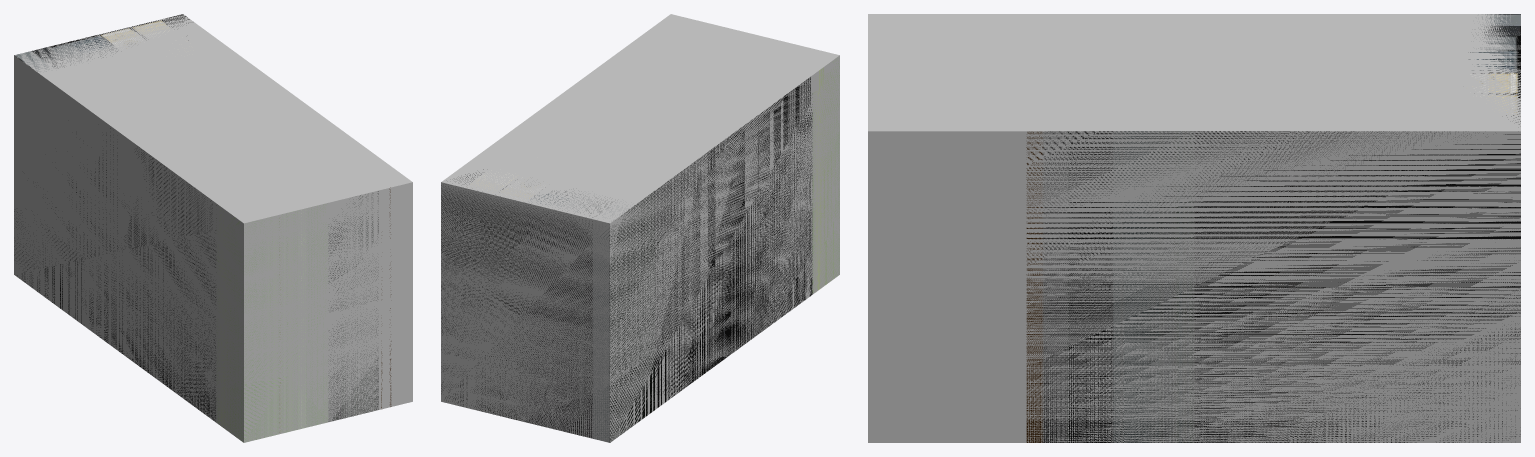
File: water_tank.DAE
The picture shows the model from 3 angles, left to right: view 1: azimuth 30°, elevation 25°; view 2: azimuth 150°, elevation 25°; view 3: azimuth 270°, elevation 25°; orthographic projection. The views are drawn at different scales.
Visible parts, largest first — view 1: bounds, colbox-1; view 2: bounds, colbox-1; view 3: bounds, colbox-1.
Part boxes in pixels (x1=…): bounds: x1=14, y1=14, x2=412, y2=442; colbox-1: x1=14, y1=14, x2=391, y2=442; bounds: x1=441, y1=14, x2=839, y2=442; colbox-1: x1=441, y1=60, x2=839, y2=442; bounds: x1=868, y1=14, x2=1520, y2=442; colbox-1: x1=1026, y1=14, x2=1520, y2=442.
Bounding box in the file's own units: 103 × 243 × 128.
